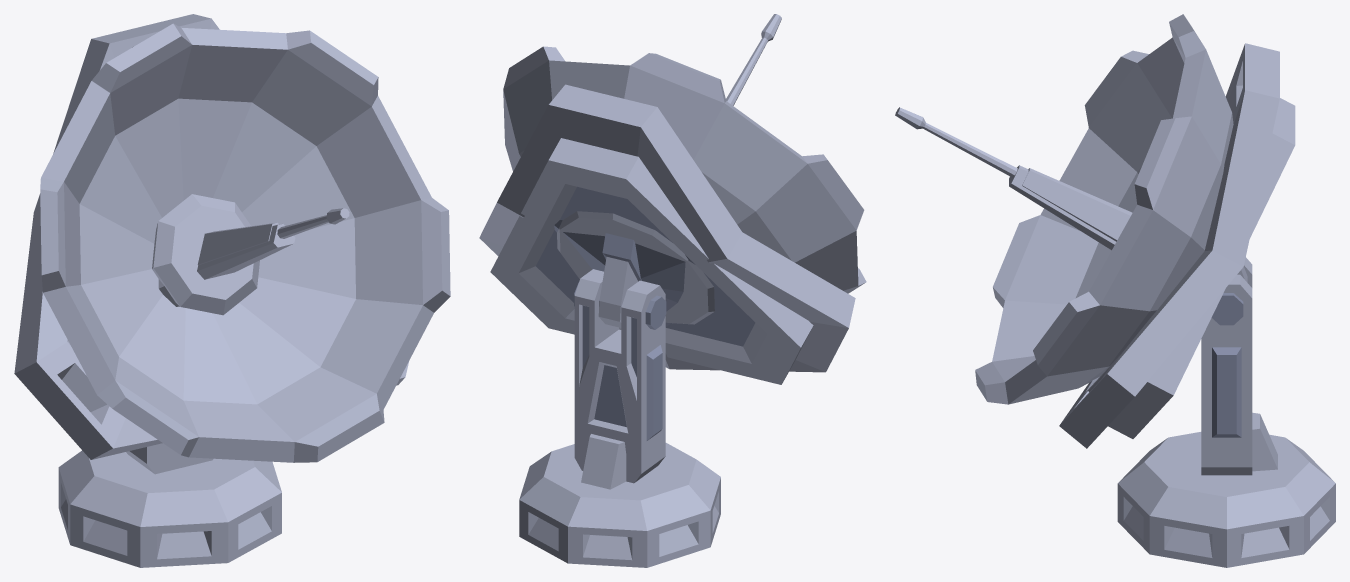
File: SatalliteDish.FBX
3 views of the same model, side by side, from view 1: azimuth 30°, elevation 25°; view 2: azimuth 150°, elevation 25°; view 3: azimuth 270°, elevation 25° (orthographic). The views are drawn at different scales.
Parts seen in each view (by area): view 1: Statellite; view 2: Statellite; view 3: Statellite.
Part boxes in pixels (x1,y1,x2,y2): Statellite: (14, 14, 450, 567); Statellite: (479, 14, 866, 567); Statellite: (895, 14, 1335, 567).
Size of the model in its own units: 29.49 by 35.35 by 29.16.
